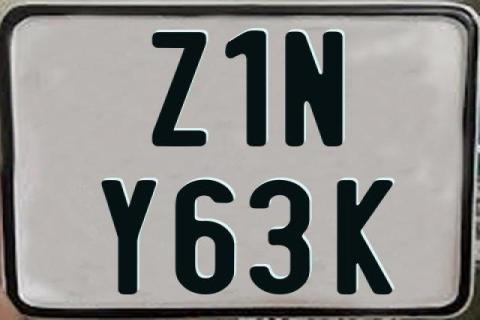0: (249, 178, 315, 294), (172, 180, 233, 298), (222, 28, 267, 147)
K: (336, 177, 392, 293)
N: (284, 31, 343, 147)
Y: (101, 177, 159, 293)
Z: (152, 30, 212, 148)
